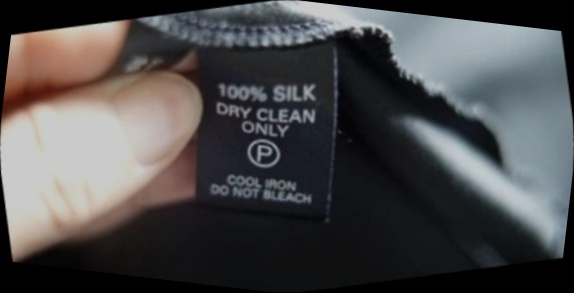dry_clean_any_solvent_except_trichloroethylene: (239, 128, 291, 177)
